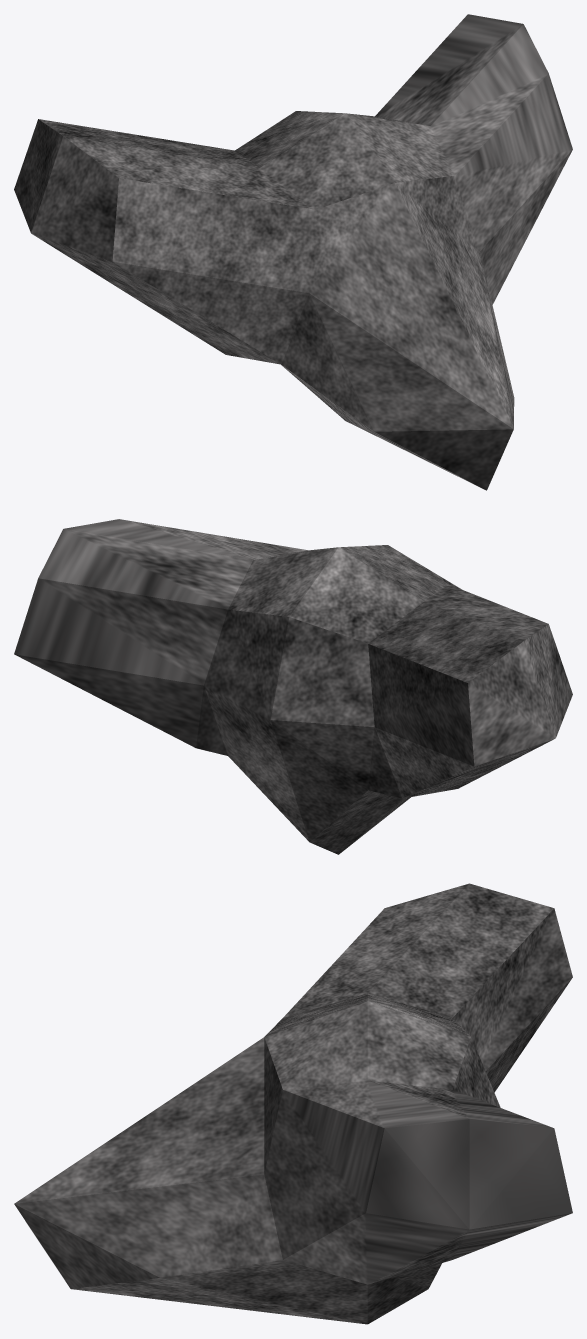
File: supaider.obj
3 renders of one model, top to bottom at view 1: azimuth 30°, elevation 25°; view 2: azimuth 150°, elevation 25°; view 3: azimuth 270°, elevation 25°, orthographic. The views are drawn at different scales.
Parts seen in each view (by area): view 1: Body; view 2: Body; view 3: Body.
Boxes of the visible parts, left/top/right/bottom form: Body: left=14, top=14, right=572, bottom=490; Body: left=14, top=519, right=572, bottom=854; Body: left=14, top=883, right=572, bottom=1324.
Size of the model in its own units: 7.49 by 4.2 by 6.59.
